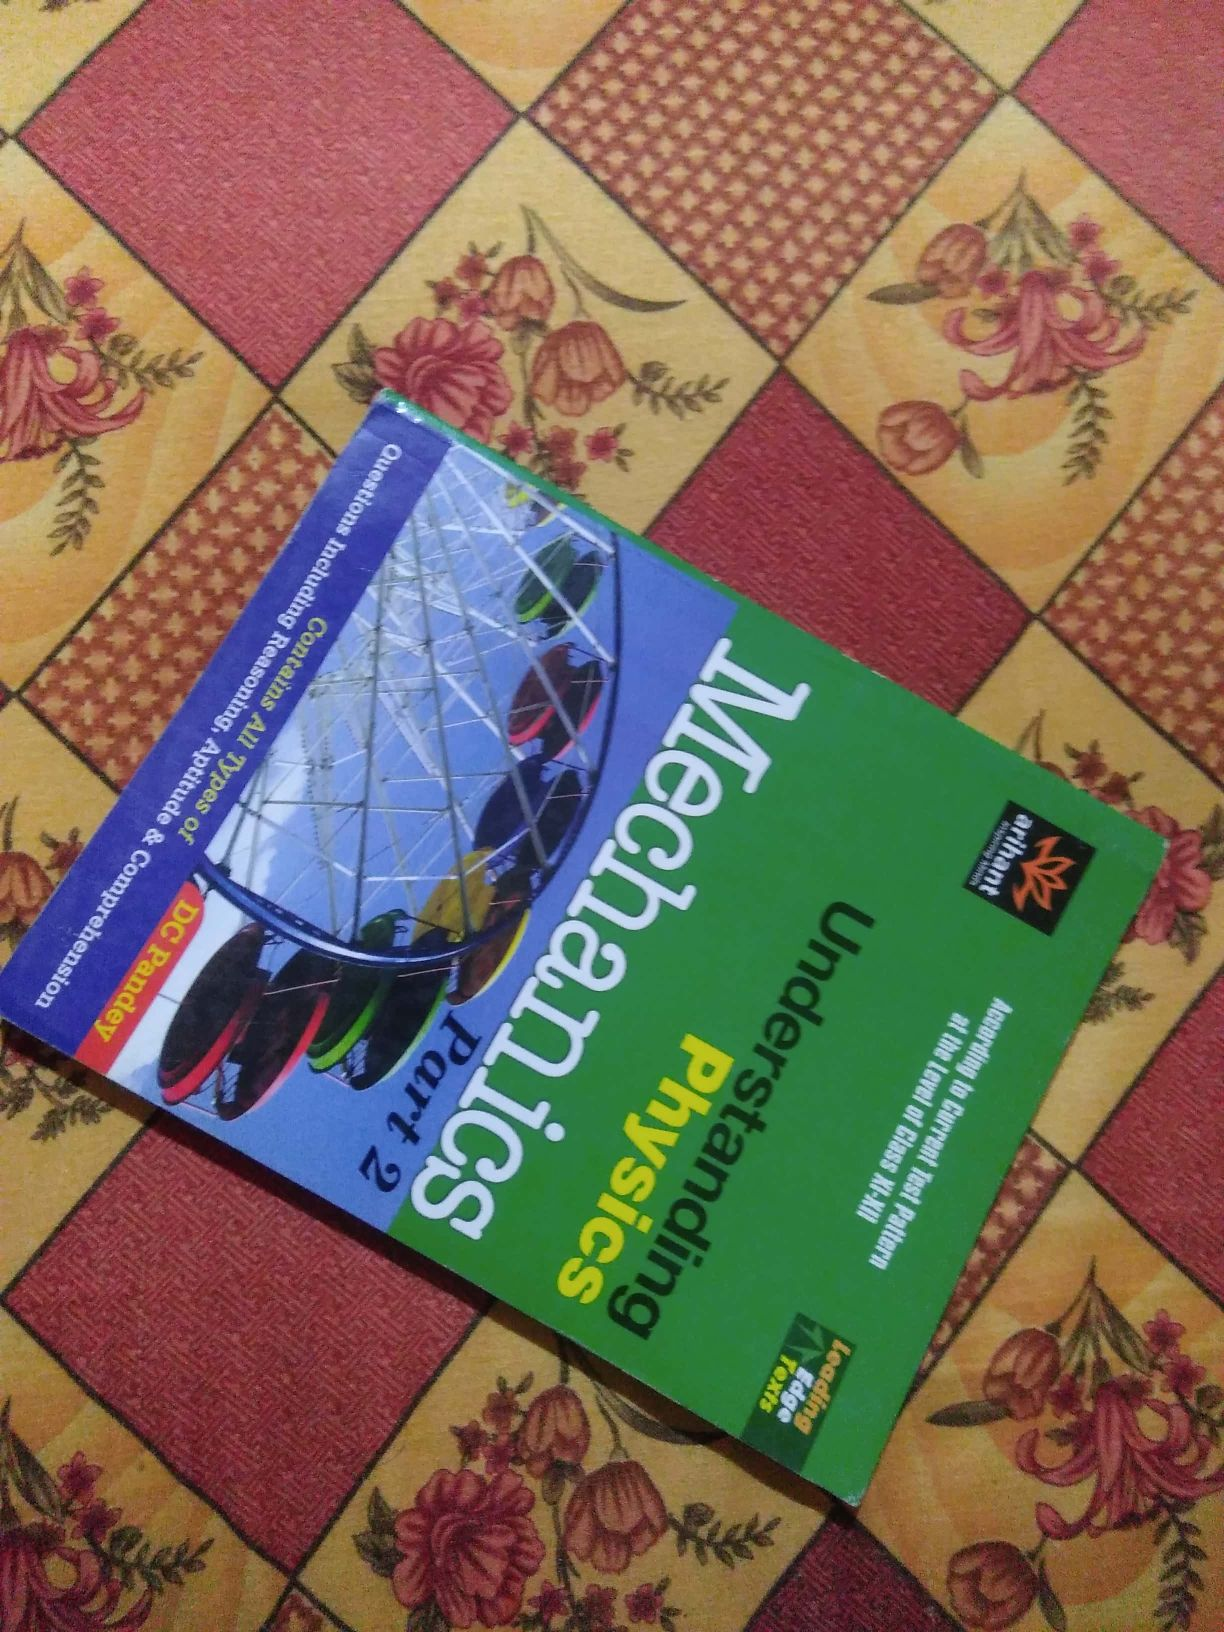mechanics: (27, 375, 1158, 1509)
